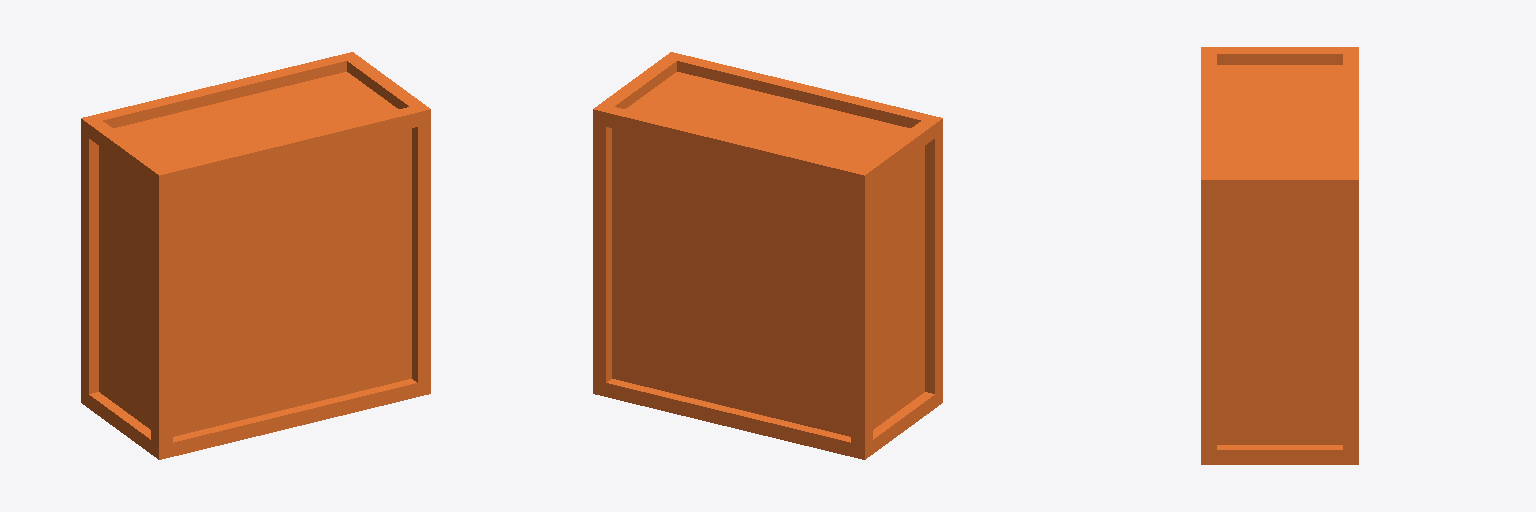
The model's file is crate.obj.
3 renders of one model, left to right at view 1: azimuth 30°, elevation 25°; view 2: azimuth 150°, elevation 25°; view 3: azimuth 270°, elevation 25°, orthographic.
Visible parts, largest first — view 1: crate; view 2: crate; view 3: crate.
Part boxes in pixels (bbox=[...]): crate: bbox=[81, 52, 430, 459]; crate: bbox=[593, 52, 942, 459]; crate: bbox=[1201, 47, 1358, 464].
Bounding box in the file's own units: 2 × 2 × 1.